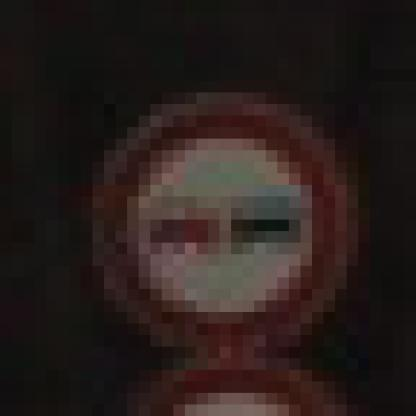No Overtaking: (71, 71, 360, 360)
